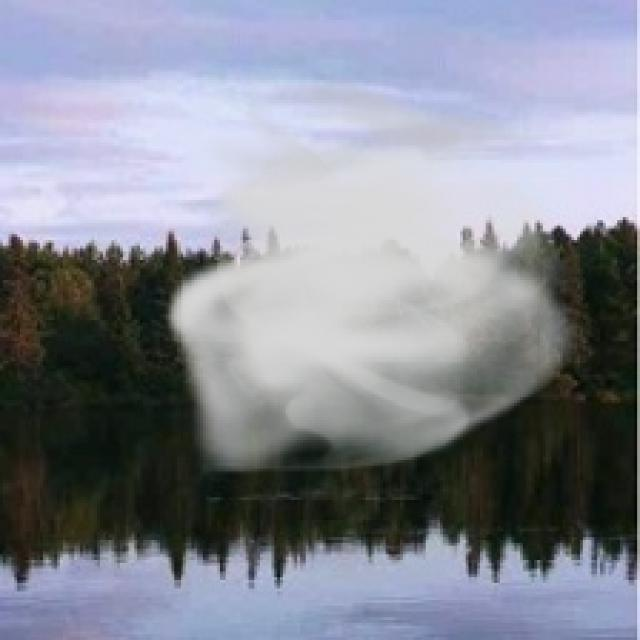Smoke: (162, 66, 588, 486)
